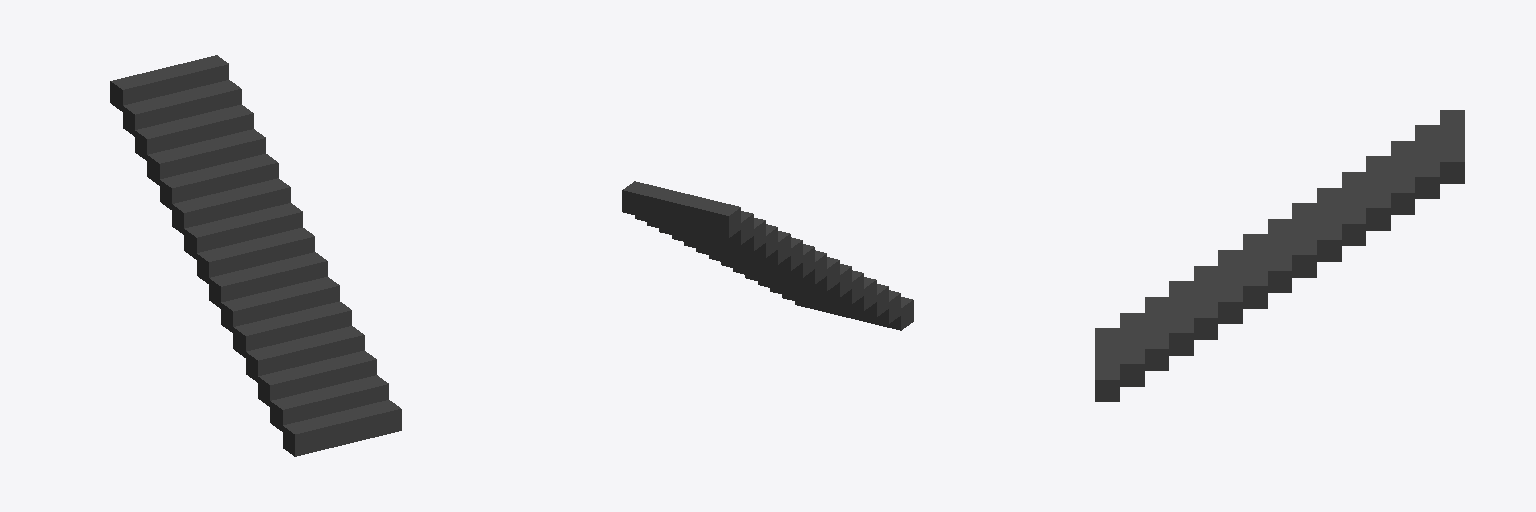
The model's file is stair.obj.
3 views of the same model, side by side, from view 1: azimuth 30°, elevation 25°; view 2: azimuth 150°, elevation 25°; view 3: azimuth 270°, elevation 25° (orthographic).
Parts seen in each view (by area): view 1: stair_Cube.001; view 2: stair_Cube.001; view 3: stair_Cube.001.
Boxes of the visible parts, box(x1,y1,x2,y2) form: stair_Cube.001: box(110, 55, 401, 456); stair_Cube.001: box(622, 181, 913, 330); stair_Cube.001: box(1095, 110, 1464, 401).
Size of the model in its own units: 2 by 4.32 by 6.